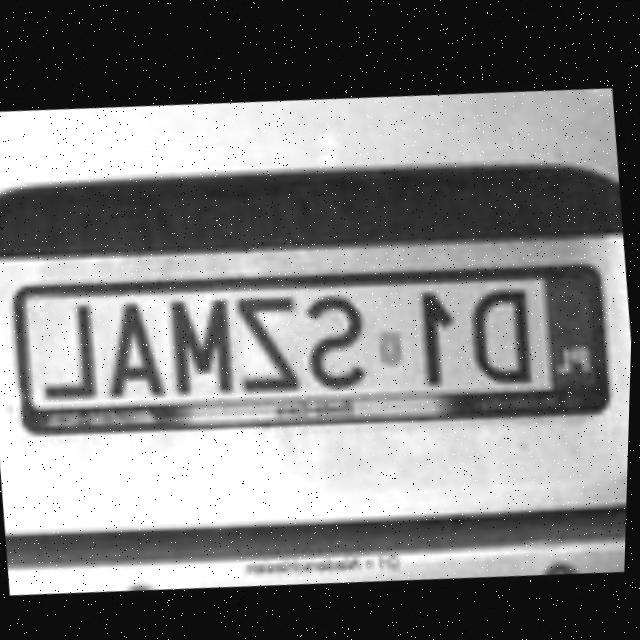license-plates: (12, 266, 609, 434)
